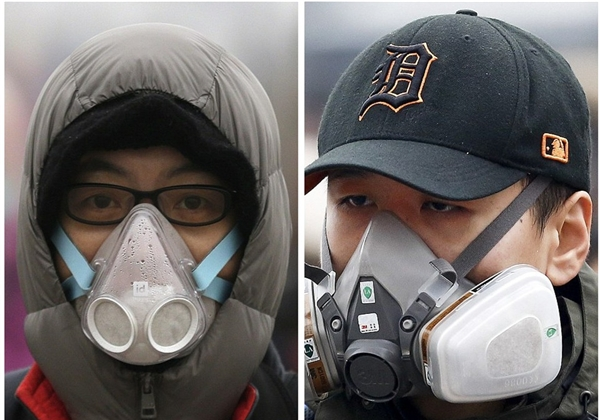mask: (326, 216, 563, 407), (58, 183, 270, 382)
